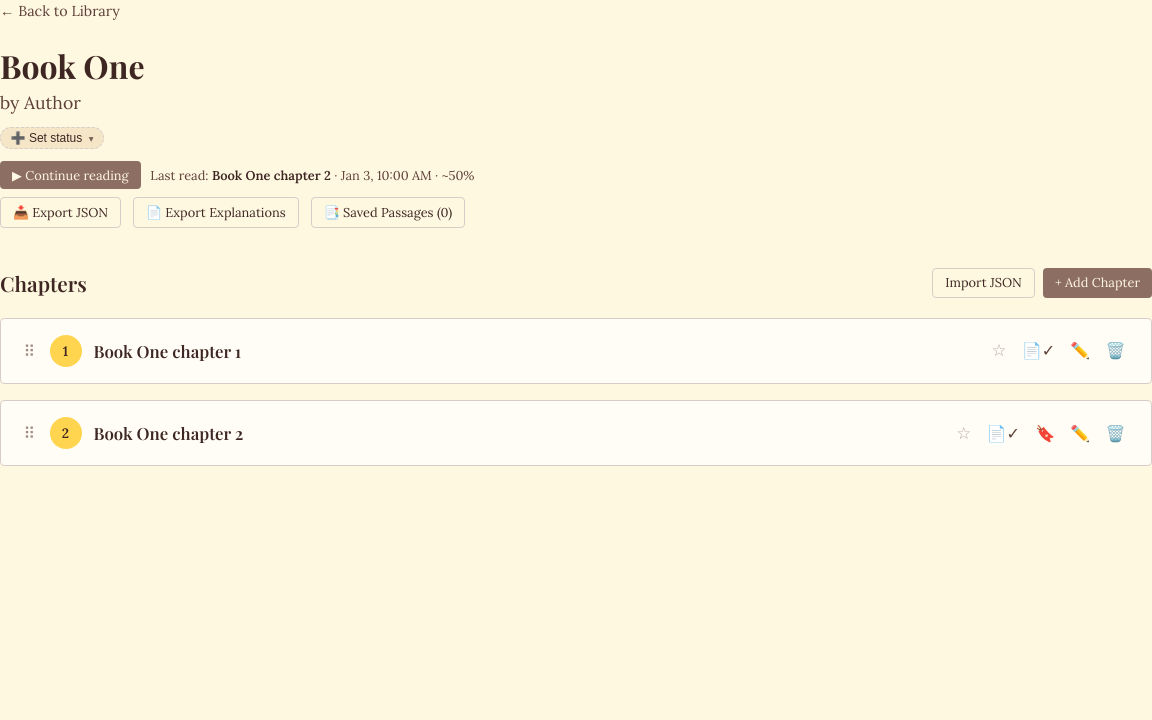
Test case: explanations, bookmarks and saved passages › continues reading from the latest bookmark and records a new one
Expected: the text "Book One chapter 2" next to "Last read:" is shown, x1=212 y1=167 x2=331 y2=184
Expected: the element with class "continue-reading-meta" reads "Last read: Book One chapter 2 · Jan 3, 10:00 AM · ~50%", x1=150 y1=167 x2=474 y2=184
Click the button "▶ Continue reading".
click(70, 175)  # box x1=0 y1=161 x2=141 y2=189
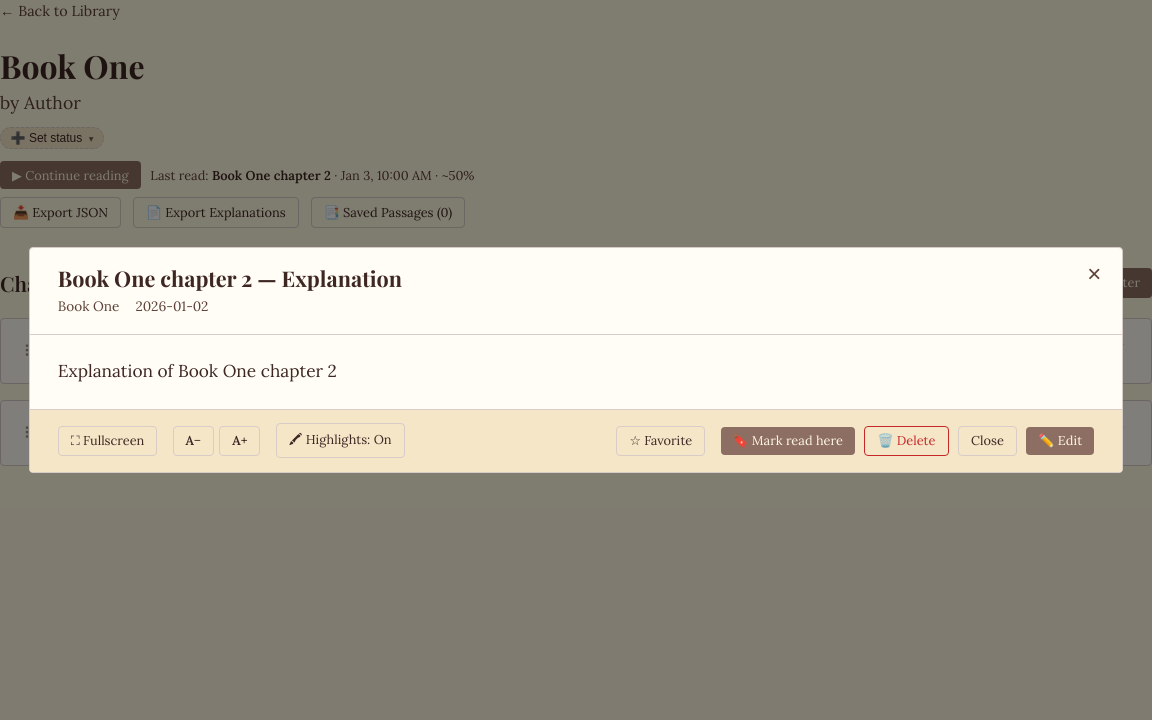
Expected: the text "Explanation of Book One chapter 2" is shown, x1=58 y1=360 x2=337 y2=382
Click the button "🔖 Mark read here".
click(788, 441)  # box x1=720 y1=427 x2=855 y2=455
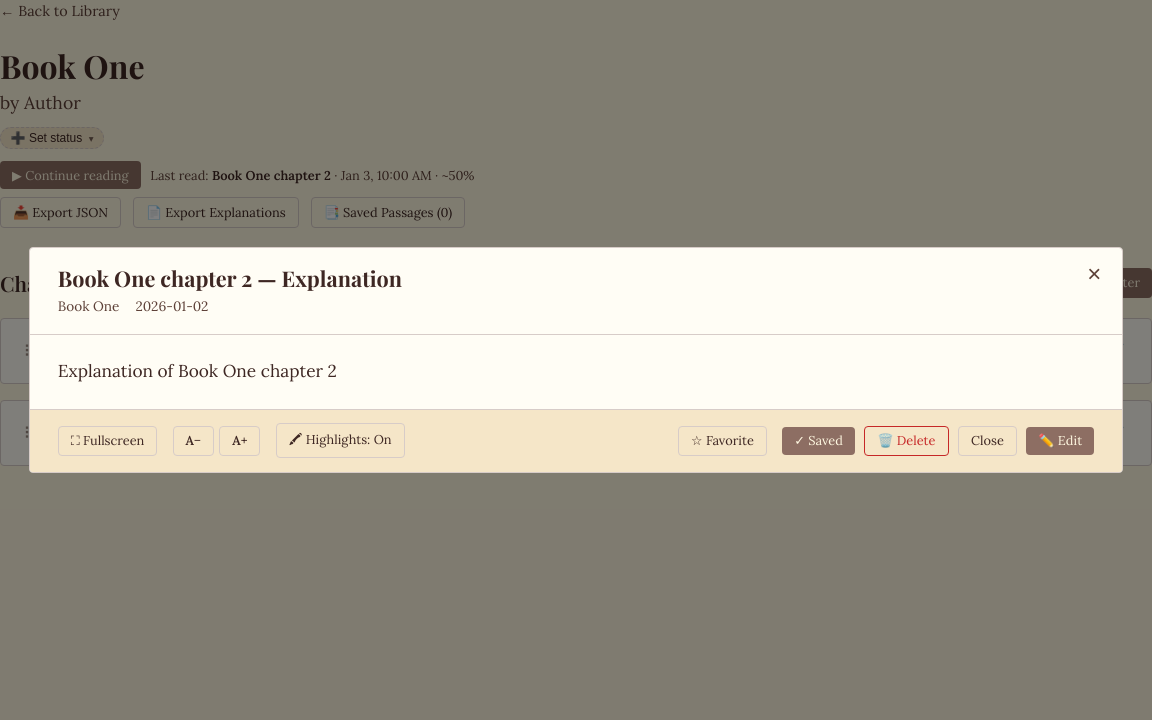
Expected: the button "✓ Saved" is shown, x1=782 y1=427 x2=855 y2=455
